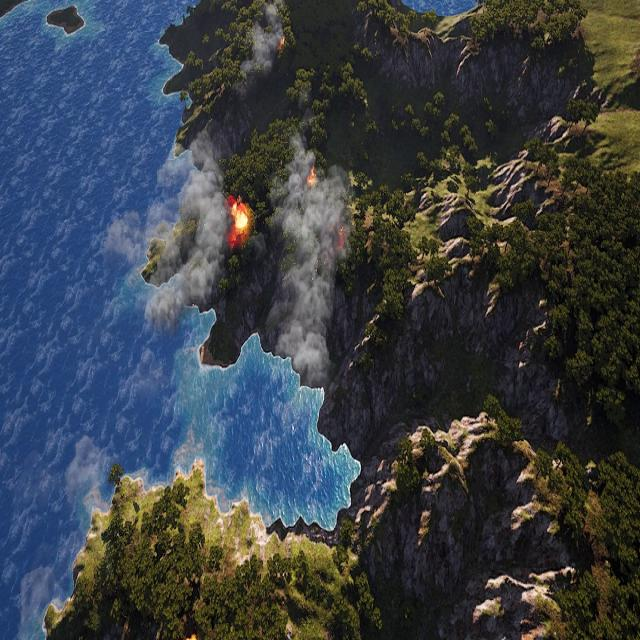fire: (229, 194, 251, 247), (327, 224, 345, 258), (307, 167, 319, 189), (278, 35, 286, 49)
smoke: (252, 129, 352, 396), (147, 136, 228, 330), (243, 5, 286, 95), (65, 434, 106, 520), (17, 565, 62, 640)
